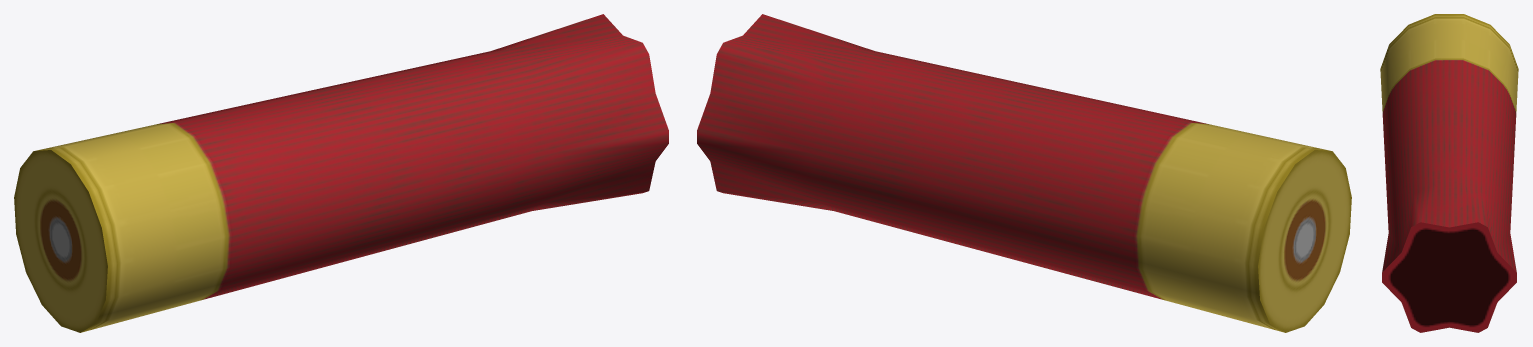
Rendered from vfe-shotgunshell.fbx.
The picture shows the model from 3 angles, left to right: view 1: azimuth 30°, elevation 25°; view 2: azimuth 150°, elevation 25°; view 3: azimuth 270°, elevation 25°; orthographic projection. The views are drawn at different scales.
Visible parts, largest first — view 1: Cartridge_12GaugeSpent_low; view 2: Cartridge_12GaugeSpent_low; view 3: Cartridge_12GaugeSpent_low.
Boxes of the visible parts, x1=… form: Cartridge_12GaugeSpent_low: x1=14, y1=14, x2=668, y2=332; Cartridge_12GaugeSpent_low: x1=697, y1=14, x2=1351, y2=332; Cartridge_12GaugeSpent_low: x1=1380, y1=14, x2=1518, y2=332.
Size of the model in its own units: 0.1252 by 0.036 by 0.0362.
1 material, 1 textured.
